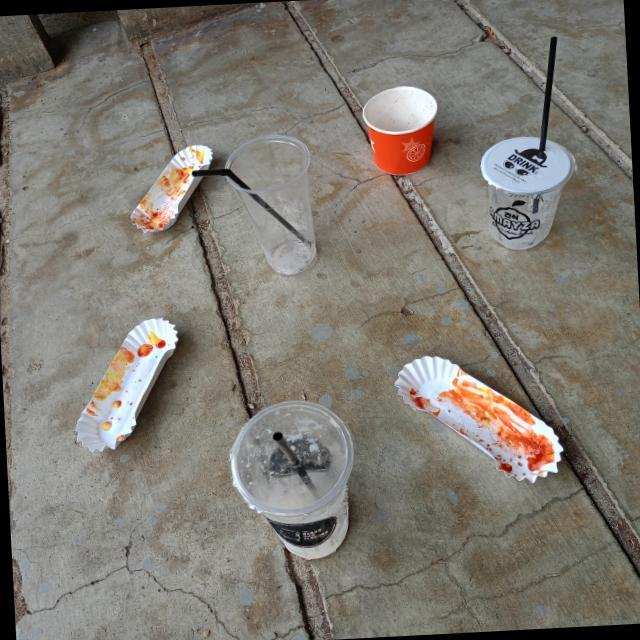recyclable waste: (385, 340, 578, 507), (213, 392, 377, 570), (60, 307, 197, 468), (217, 126, 336, 288), (462, 117, 591, 262), (112, 136, 226, 246), (352, 72, 449, 185)
